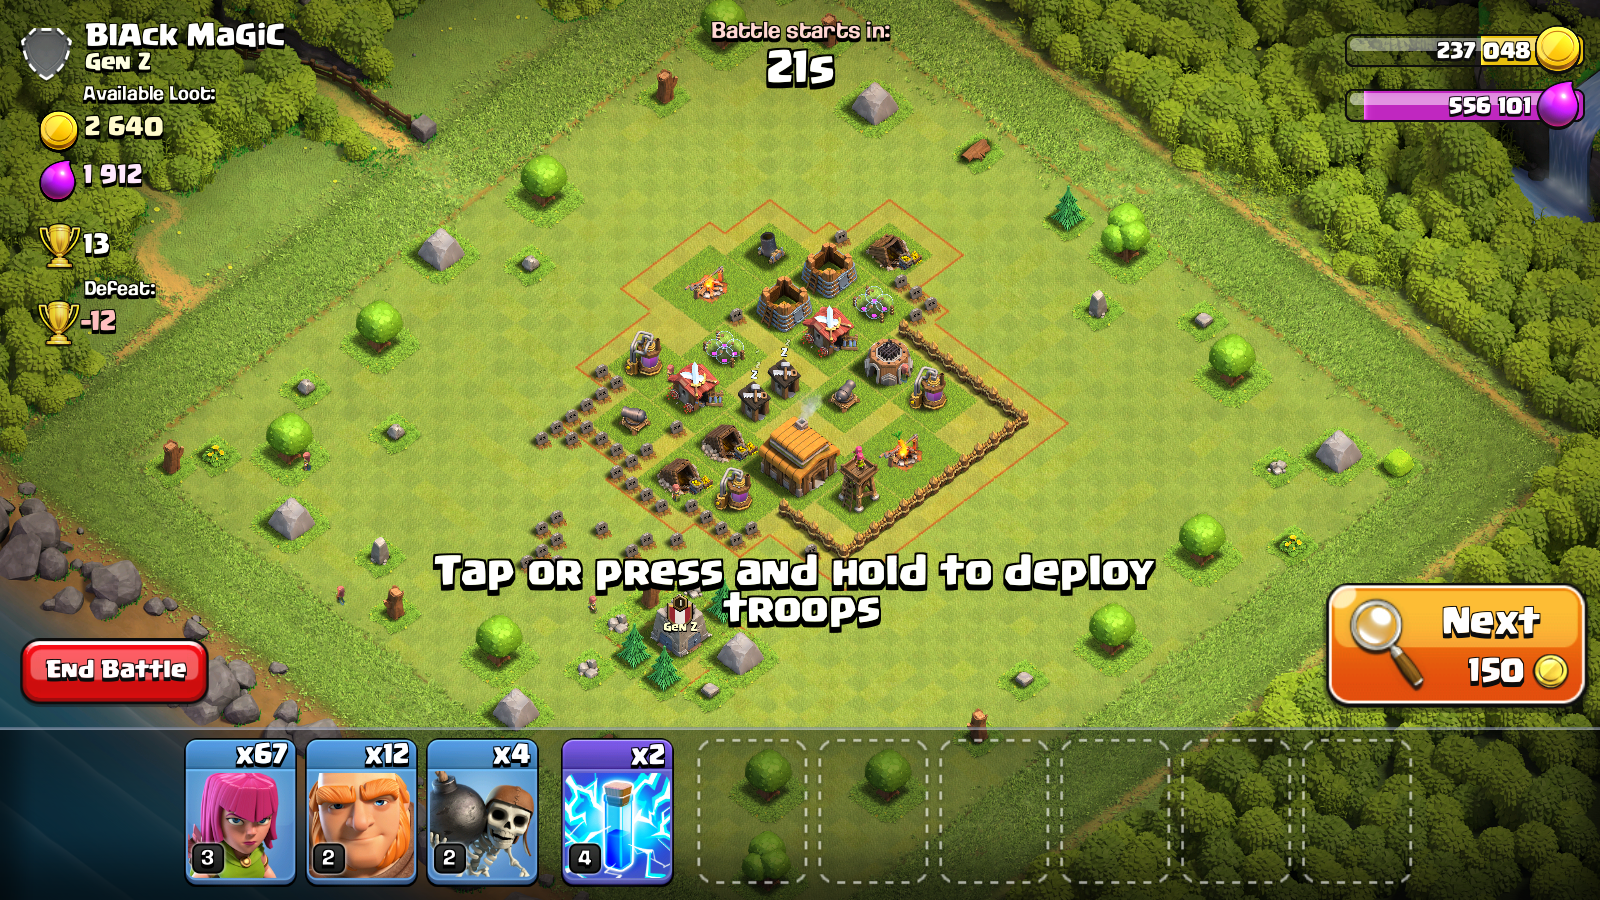end_battle: (23, 646, 211, 705)
loot_details: (1, 1, 376, 359)
next_searchbase: (1324, 584, 1586, 705)
troop_not_selected_message: (433, 553, 1153, 630)
